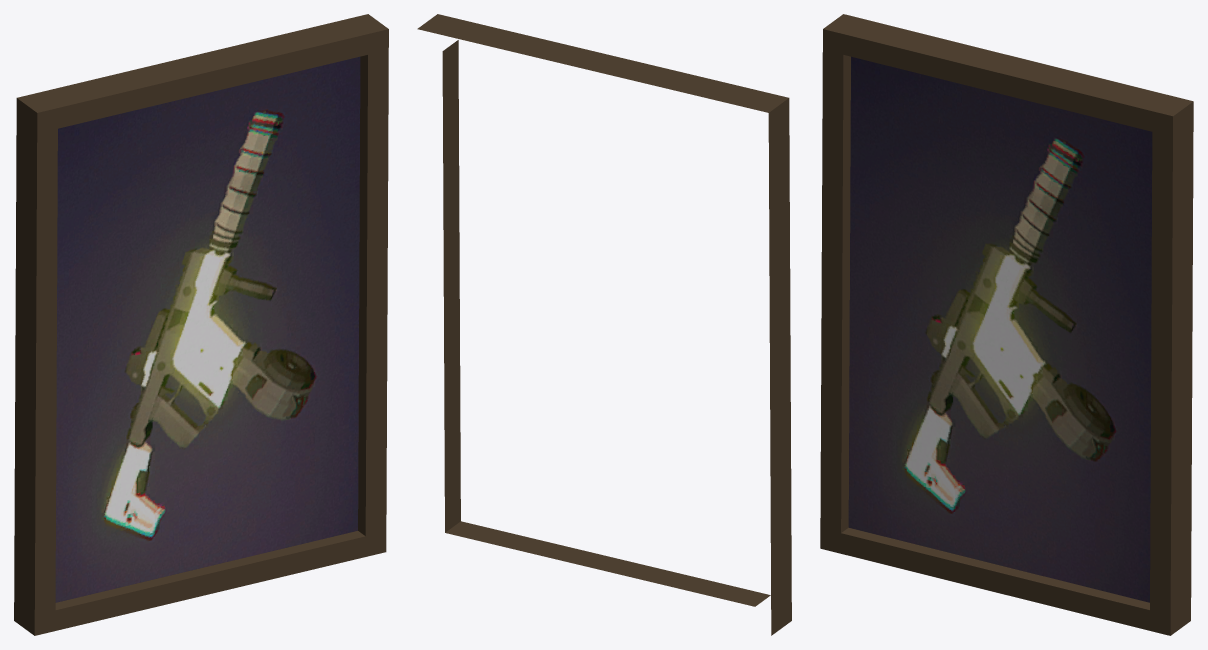
Rendered from TallPainting 3.glb.
The picture shows the model from 3 angles, left to right: view 1: azimuth 30°, elevation 25°; view 2: azimuth 150°, elevation 25°; view 3: azimuth 330°, elevation 25°; orthographic projection.
Visible parts, largest first — view 1: Cube.001, Cube; view 2: Cube; view 3: Cube.001, Cube.
Boxes of the visible parts, bbox=[...] form: Cube.001: bbox=[55, 56, 360, 602]; Cube: bbox=[14, 14, 388, 635]; Cube: bbox=[417, 14, 791, 635]; Cube.001: bbox=[848, 56, 1152, 602]; Cube: bbox=[820, 14, 1193, 635].
Size of the model in its own units: 0.7794 by 1.1 by 0.0786.
2 materials, 2 textured.
